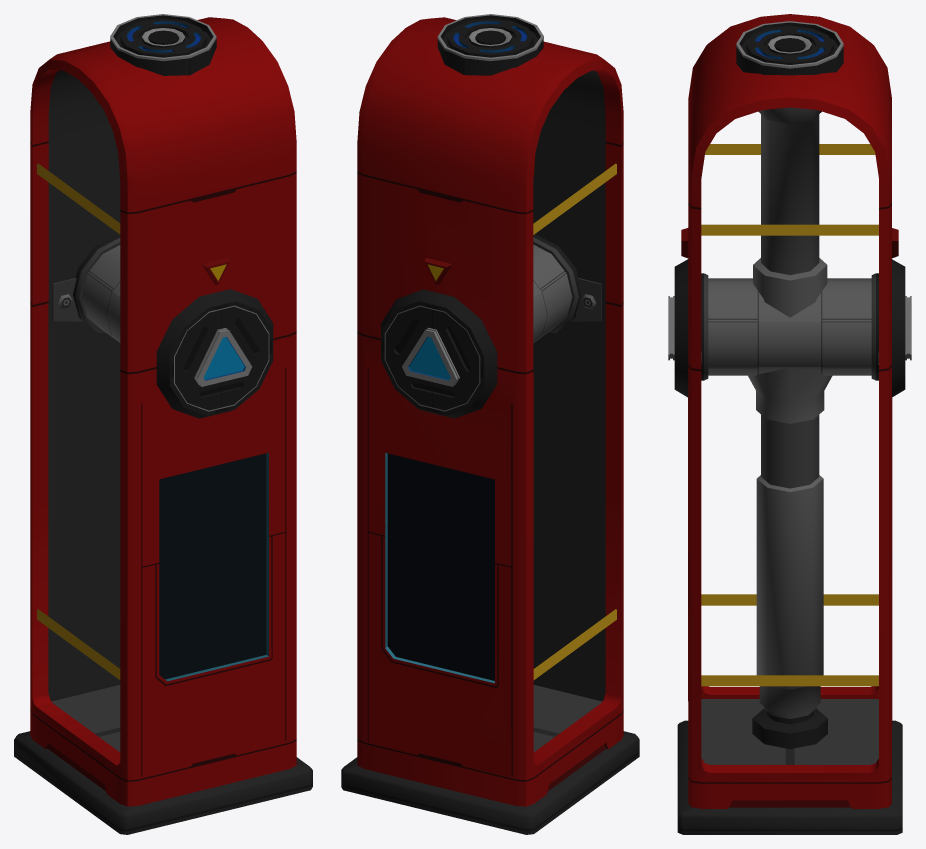
Rendered from W_O_Fireplug_001_L0.fbx.
3 renders of one model, left to right at view 1: azimuth 30°, elevation 25°; view 2: azimuth 150°, elevation 25°; view 3: azimuth 270°, elevation 25°, orthographic.
Visible parts, largest first — view 1: W_O_Fireplug_001_L0; view 2: W_O_Fireplug_001_L0; view 3: W_O_Fireplug_001_L0.
Boxes of the visible parts, bbox=[...] form: W_O_Fireplug_001_L0: bbox=[14, 14, 312, 834]; W_O_Fireplug_001_L0: bbox=[341, 14, 639, 834]; W_O_Fireplug_001_L0: bbox=[668, 14, 911, 834].
Size of the model in its own units: 0.1719 by 0.6264 by 0.1857.
